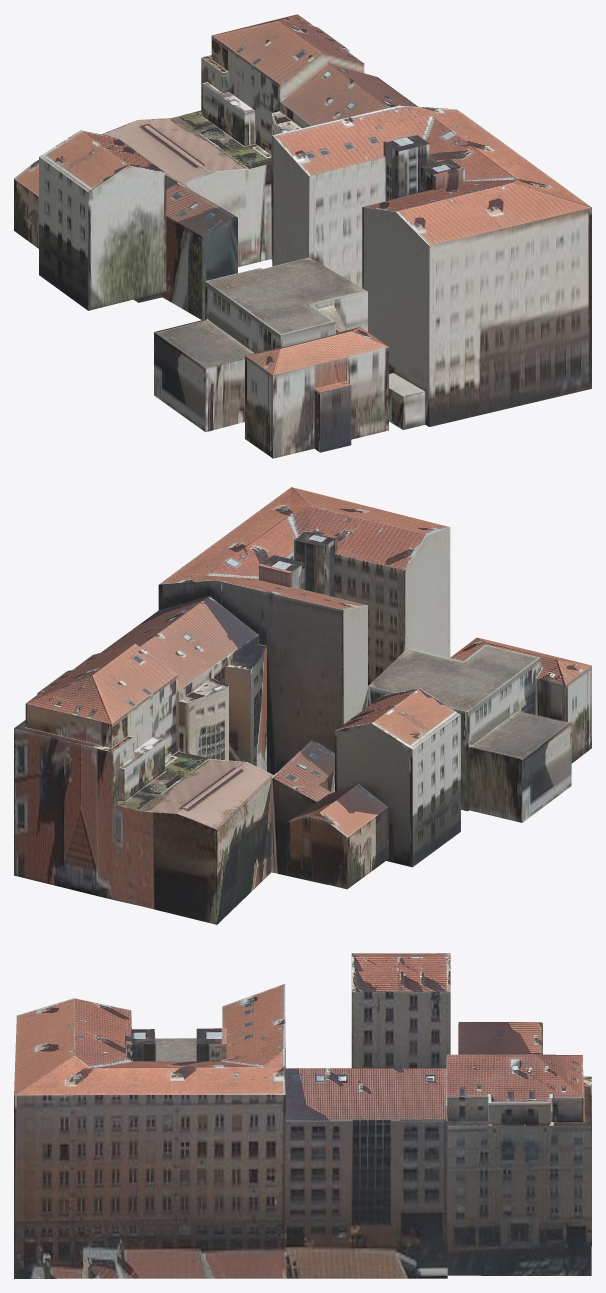
The model's file is LYON_1ER_00045.dae.
3 renders of one model, top to bottom at view 1: azimuth 30°, elevation 25°; view 2: azimuth 150°, elevation 25°; view 3: azimuth 270°, elevation 25°, orthographic. The views are drawn at different scales.
Bounding box in the file's own units: 54.15 × 79.26 × 30.79.
2 materials, 2 textured.
